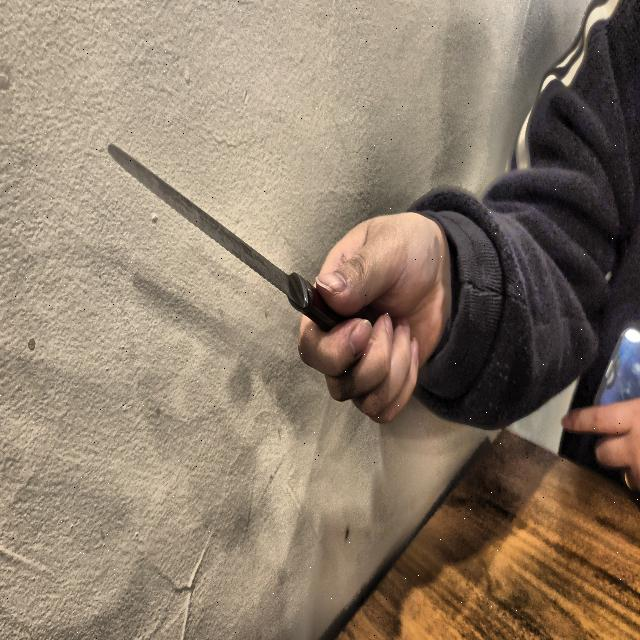knife: (105, 138, 348, 336)
